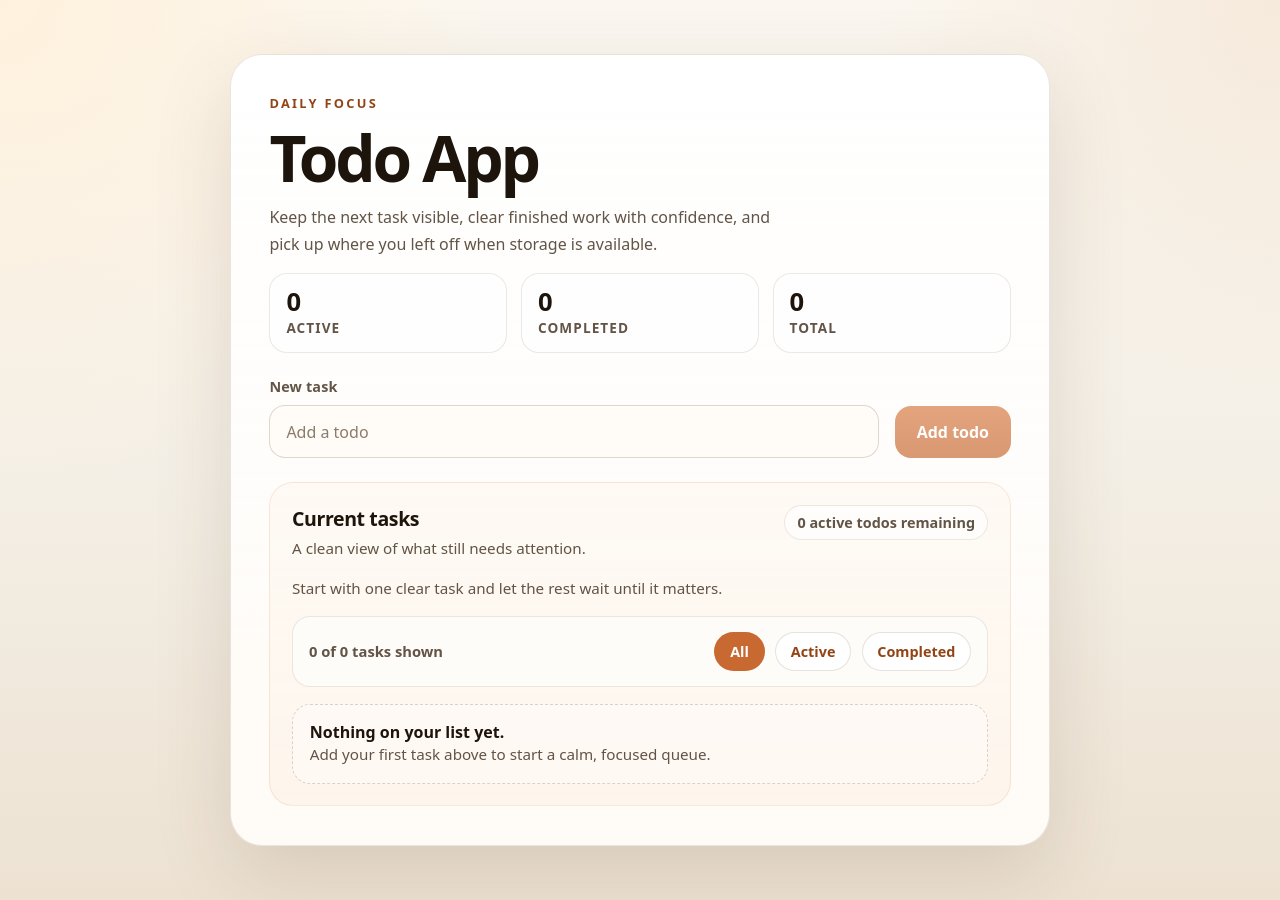
Test: HomePage › deletes a todo immediately without affecting the remaining items
Type "Buy milk" into the field labelled "New task" at (574,432), box [269,405,879,458]
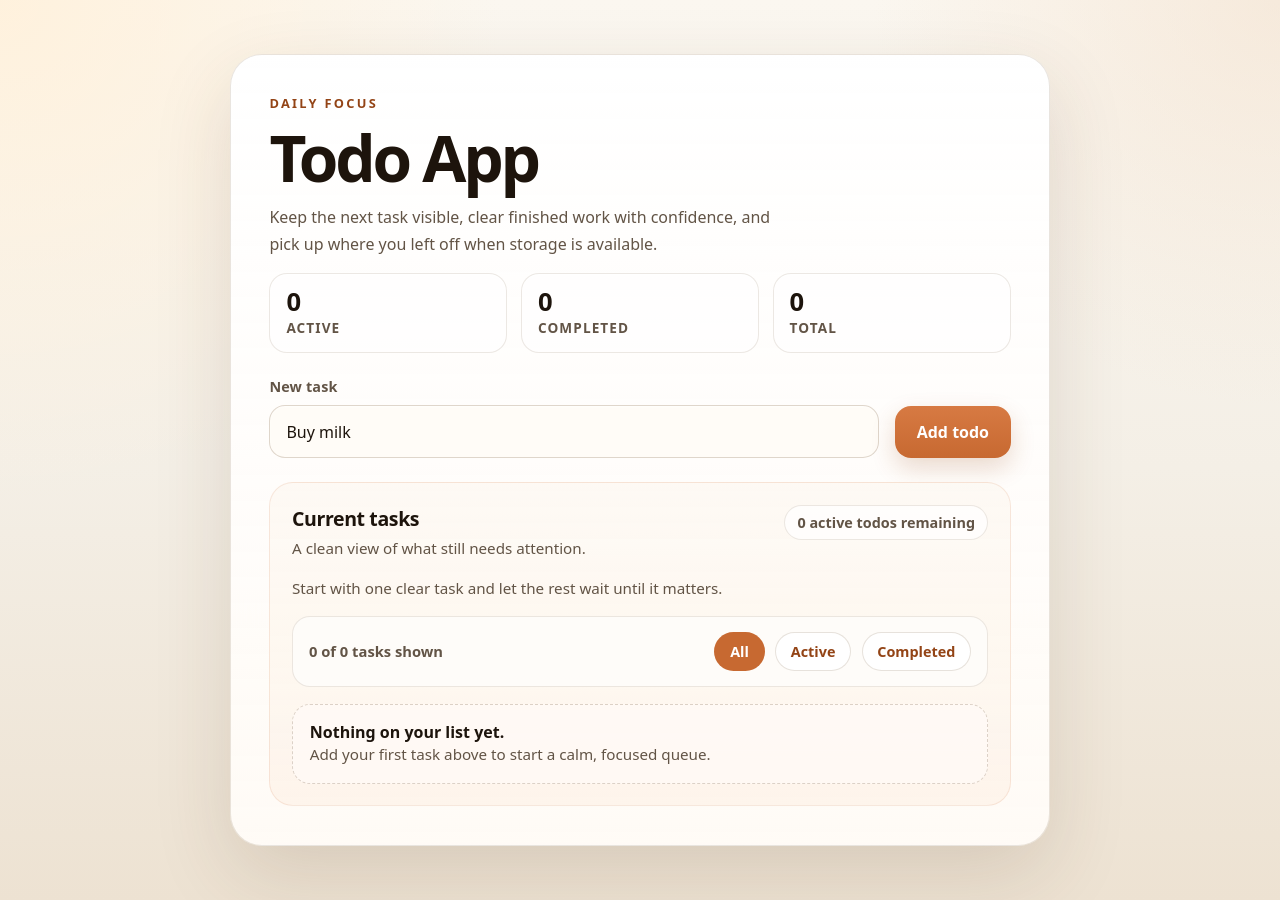
Click the button "Add todo" at (953,432), box [895,406,1011,458]
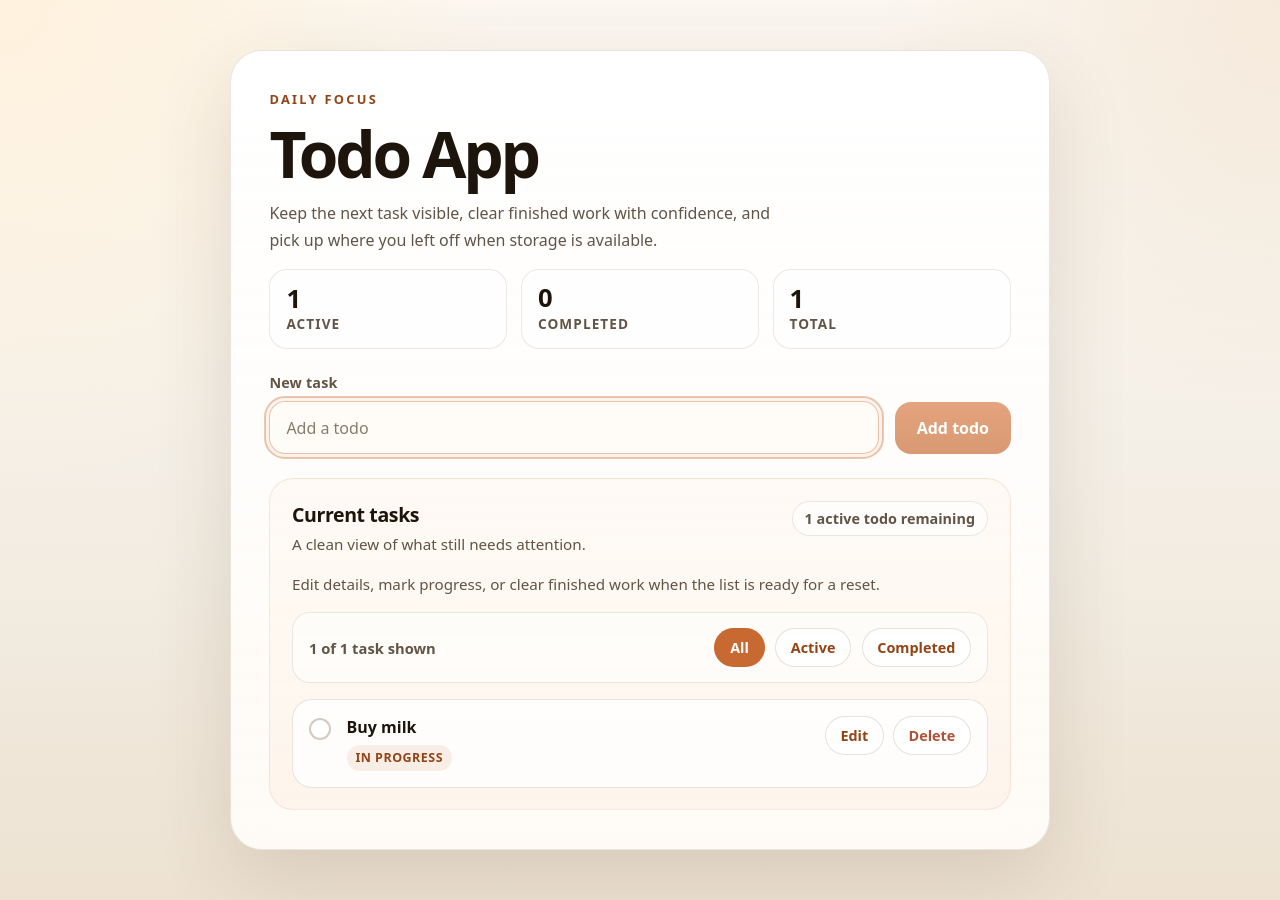
Type "Walk dog" into the field labelled "New task" at (574,428), box [269,401,879,454]
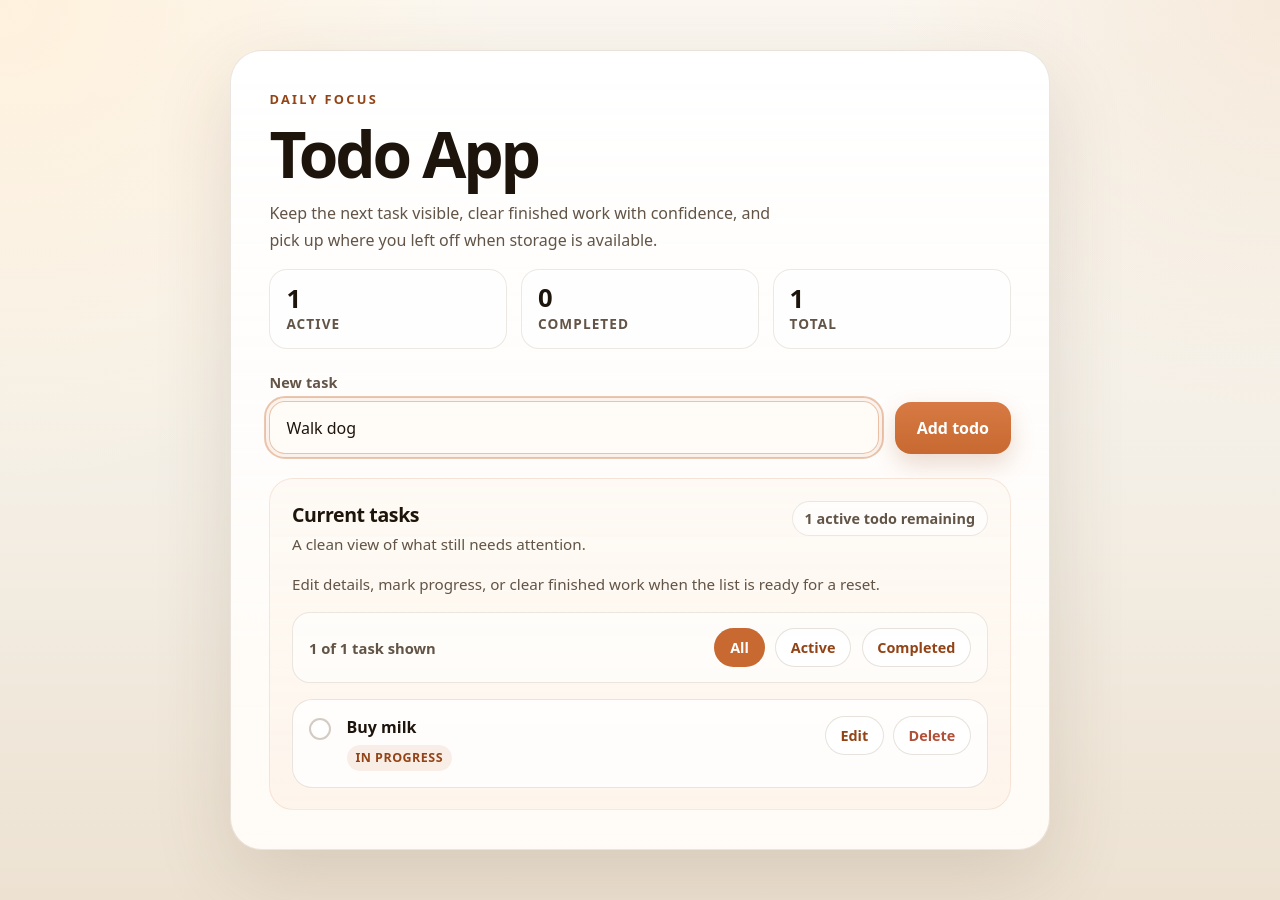
Click the button "Add todo" at (953,428), box [895,402,1011,454]
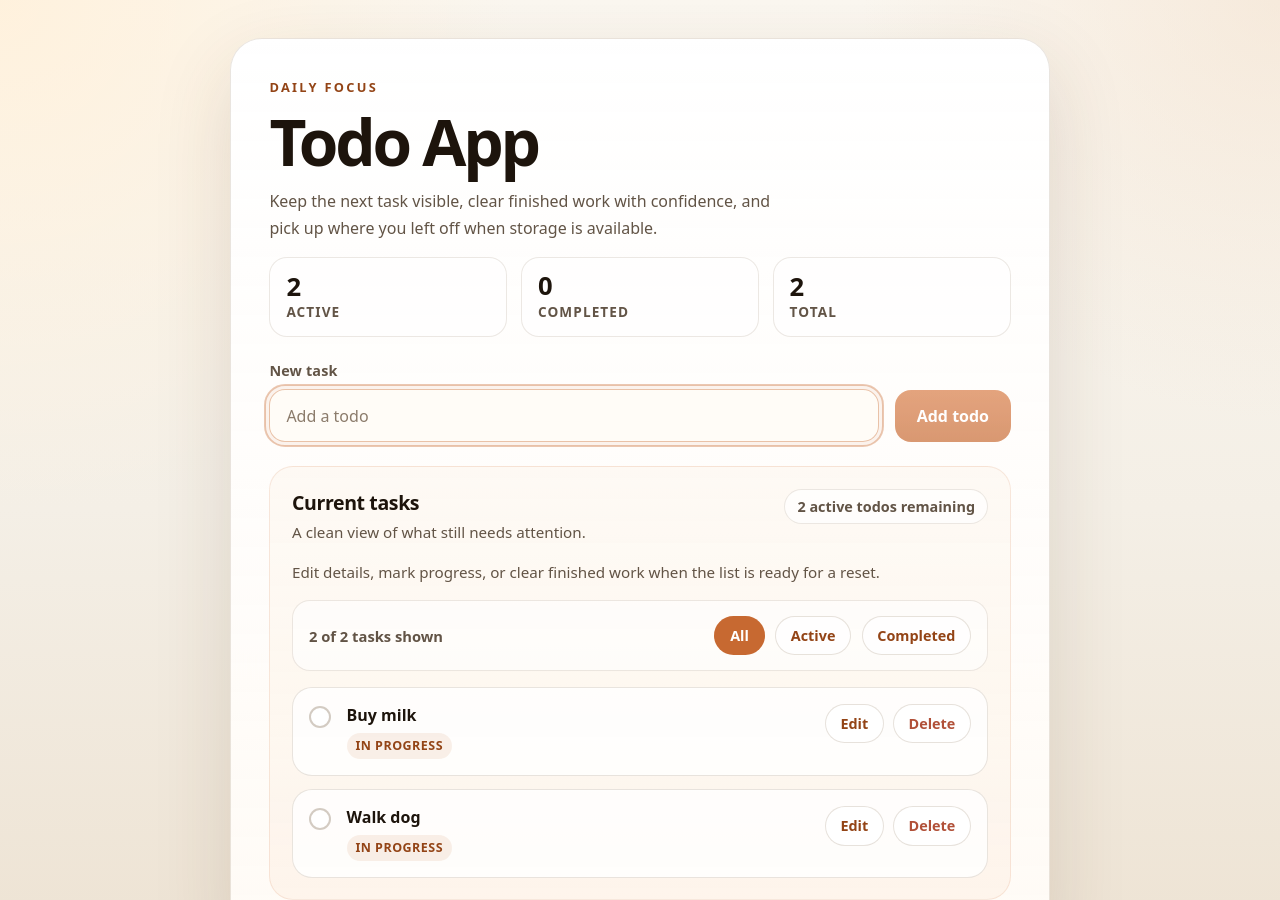
Click the button named "Delete Buy milk" at (932,723), box [893,704,971,743]
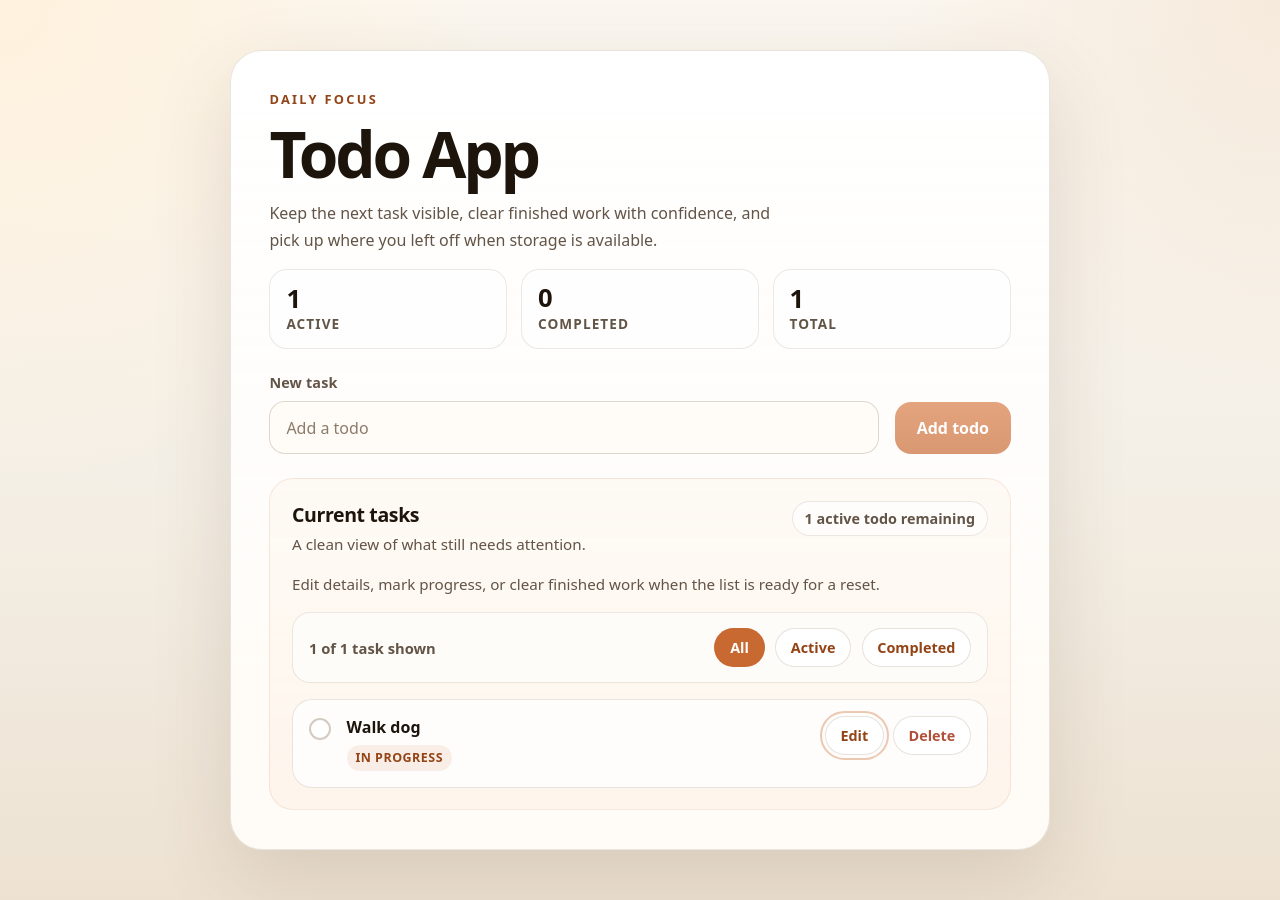
Expected: the text "Walk dog" is shown, [347,716,420,738]
Expected: the text "Buy milk" is gone
